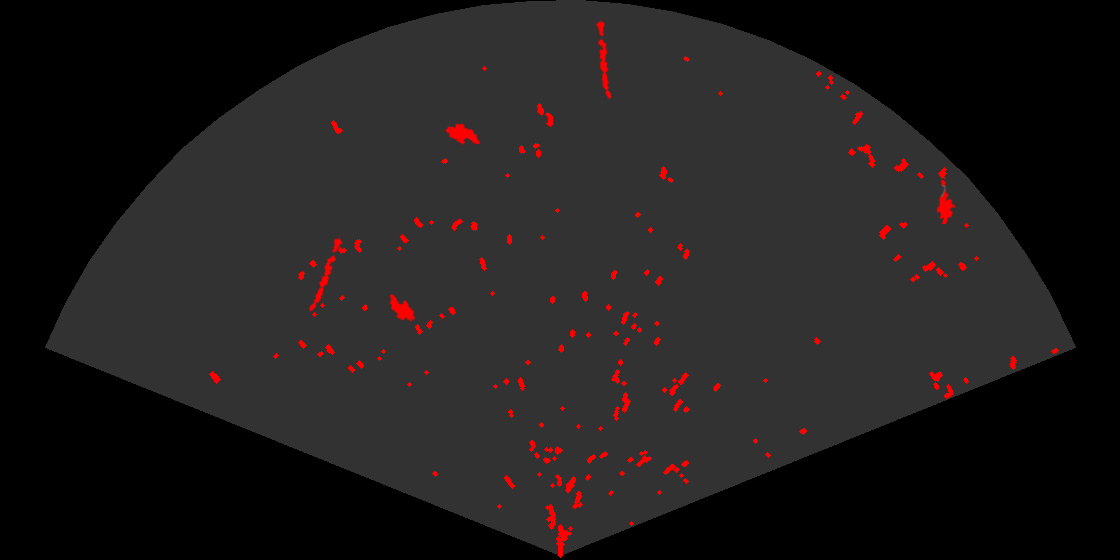AUV: (444, 122, 482, 146), (388, 292, 417, 323)
chain: (308, 234, 344, 314), (594, 19, 613, 100)
frogman: (935, 178, 957, 224)
